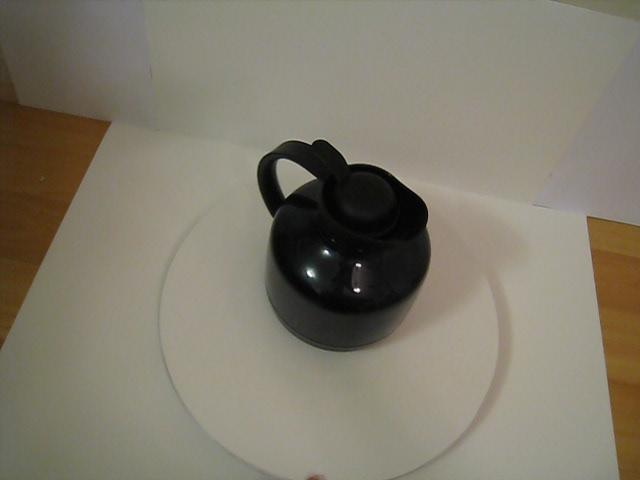pitcher: (237, 125, 443, 365)
